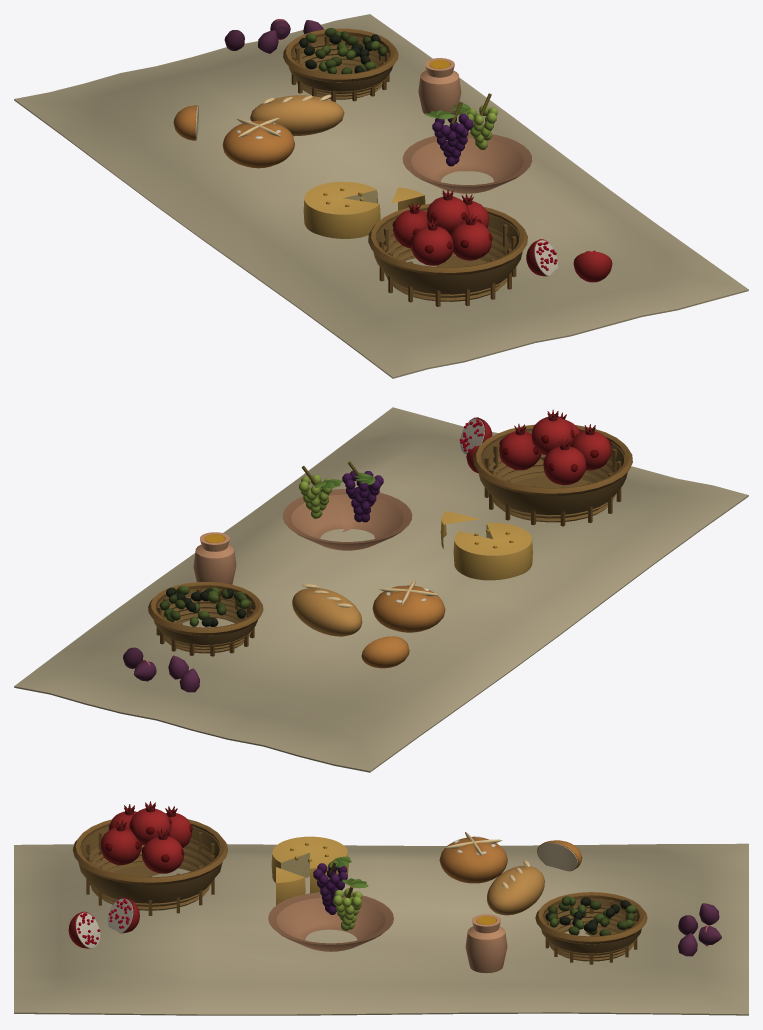
The model's file is obj_kit_produce.glb.
3 views of the same model, one above another, from view 1: azimuth 30°, elevation 25°; view 2: azimuth 150°, elevation 25°; view 3: azimuth 270°, elevation 25° (orthographic). The views are drawn at different scales.
Parts seen in each view (by area): view 1: cloth, bowl, basket, wheel, Sphere.093, Sphere.084, Torus.006, honey, Torus.013, basket.001, Sphere.020, Sphere.015 (+4 smaller); view 2: cloth, bowl, basket, wheel, Sphere.084, Sphere.093, Torus.006, Torus.013, honey, basket.001, Sphere.010, Sphere.098 (+4 smaller); view 3: cloth, bowl, basket, Sphere.084, Sphere.093, Torus.006, honey, wheel, Torus.013, basket.001, Sphere.005, Sphere.015 (+11 smaller).
Part boxes in pixels (x1,y1,x2,y2): cloth: [14, 14, 748, 378]; bowl: [402, 132, 532, 193]; basket: [373, 210, 522, 297]; wheel: [303, 181, 380, 238]; Sphere.093: [250, 95, 344, 136]; Sphere.084: [222, 120, 294, 168]; Torus.006: [368, 204, 527, 275]; honey: [418, 58, 461, 113]; Torus.013: [283, 28, 398, 82]; basket.001: [288, 35, 392, 93]; Sphere.020: [411, 226, 453, 265]; Sphere.015: [451, 221, 491, 260]; cloth: [14, 407, 748, 772]; bowl: [282, 489, 412, 550]; basket: [478, 431, 627, 518]; wheel: [453, 523, 532, 580]; Sphere.084: [372, 585, 445, 632]; Sphere.093: [292, 587, 362, 636]; Torus.006: [473, 424, 632, 495]; Torus.013: [148, 582, 263, 635]; honey: [193, 532, 236, 584]; basket.001: [153, 588, 257, 647]; Sphere.010: [543, 446, 586, 485]; Sphere.098: [361, 636, 409, 668]; cloth: [14, 843, 748, 1015]; bowl: [268, 892, 393, 951]; basket: [78, 826, 222, 906]; Sphere.084: [439, 836, 507, 883]; Sphere.093: [487, 865, 544, 915]; Torus.006: [73, 819, 227, 885]; honey: [465, 914, 507, 973]; wheel: [271, 836, 348, 893]; Torus.013: [535, 892, 647, 944]; basket.001: [541, 898, 641, 955]; Sphere.005: [141, 836, 184, 873]; Sphere.015: [100, 827, 141, 865].
Size of the model in its own units: 0.95 by 0.2714 by 1.75.
